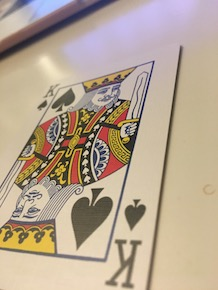KingOfSpades: (1, 39, 185, 290)
